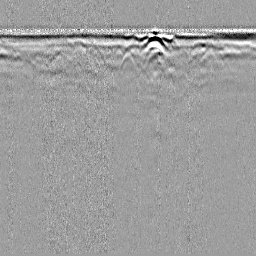cavity: (118, 49, 137, 70)
